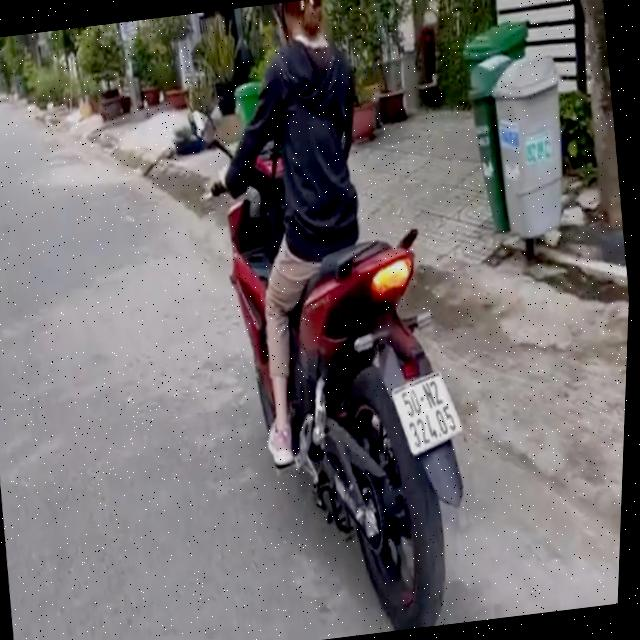motorcycle: (148, 59, 512, 640)
plate: (382, 362, 468, 459)
